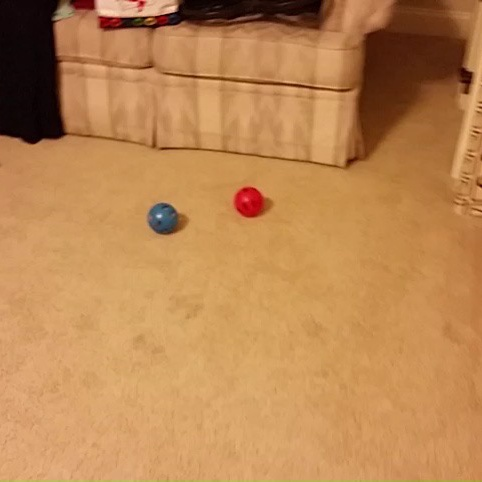blueball: (145, 200, 181, 236)
redball: (232, 184, 266, 219)
